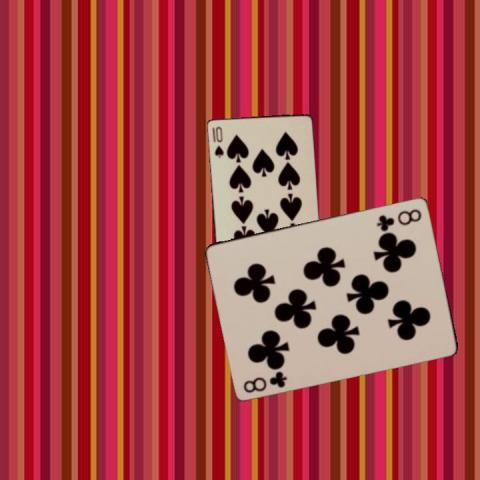10s: (211, 123, 225, 158)
8c: (374, 205, 423, 231), (240, 368, 289, 394)
